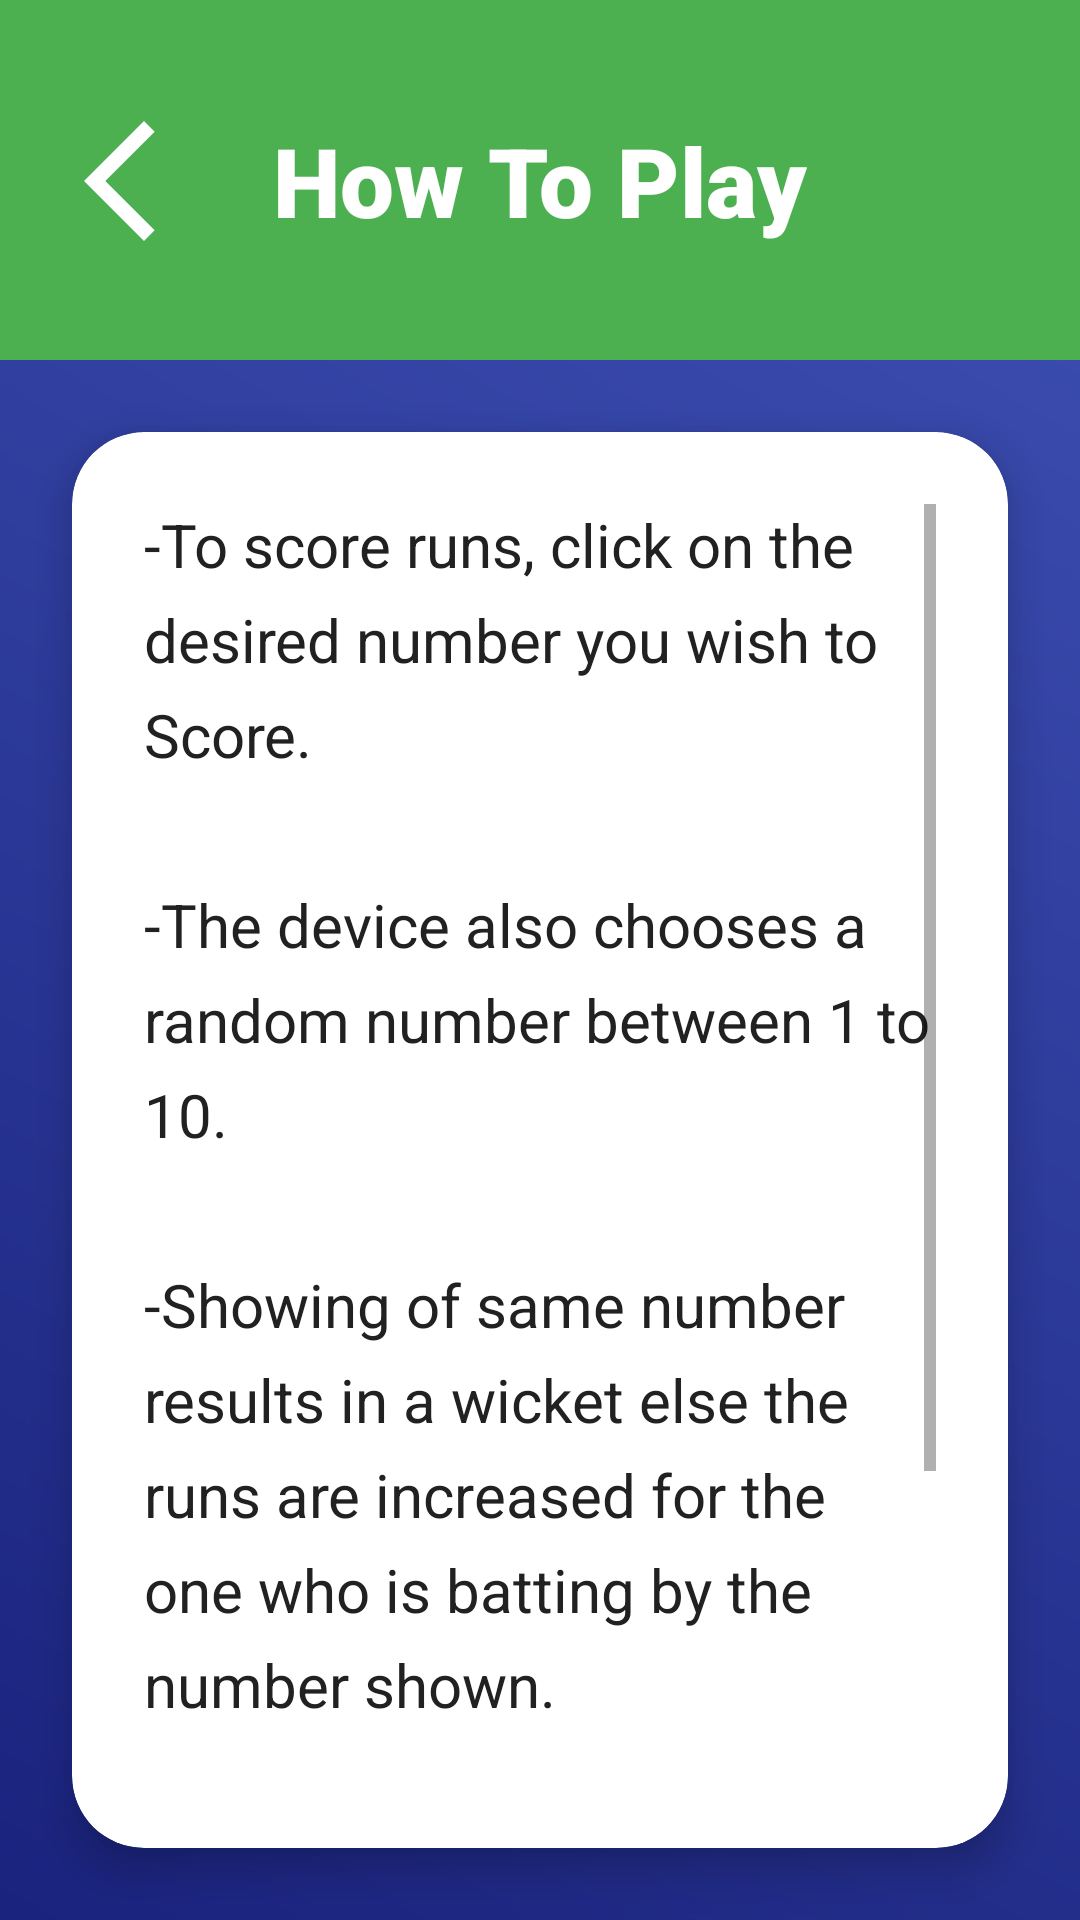

Icon bounding boxes for this 1080 x 1920 phone screenshot, format (x1, y1, x2, y2):
back: (84, 121, 155, 241)
